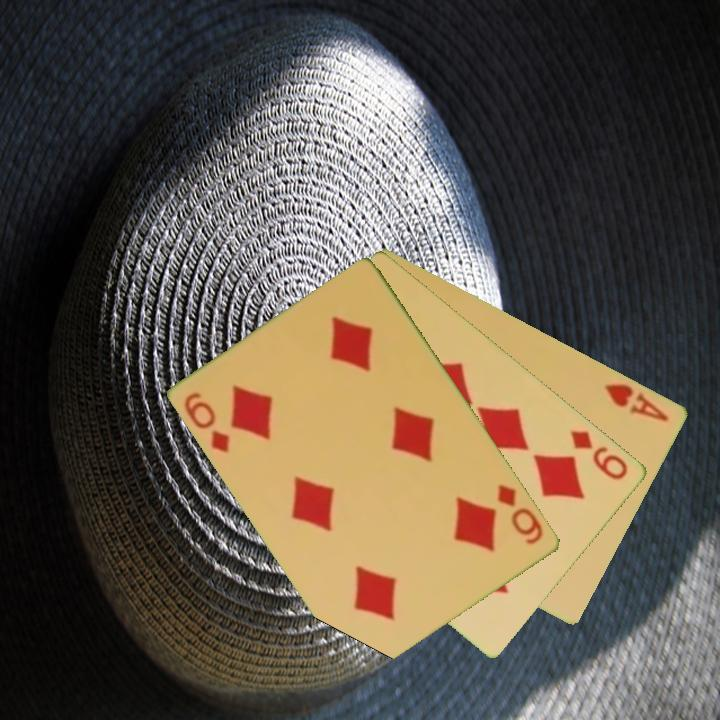6d: (494, 480, 547, 548), (181, 389, 234, 457)
9d: (567, 426, 632, 483)
Ah: (602, 379, 672, 425)
